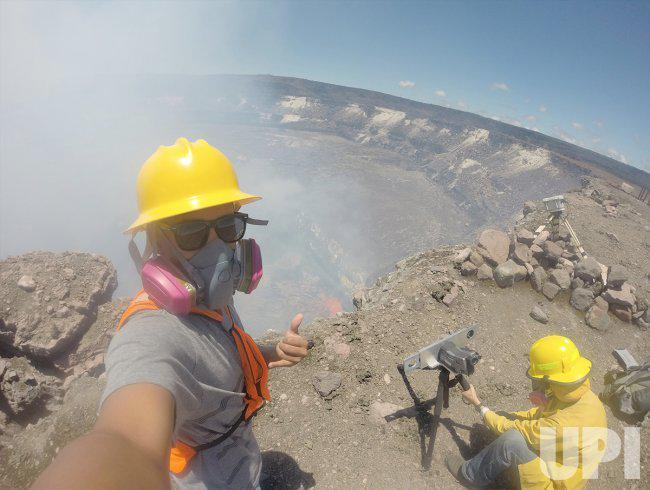helmet: (121, 138, 263, 235), (525, 334, 595, 388)
